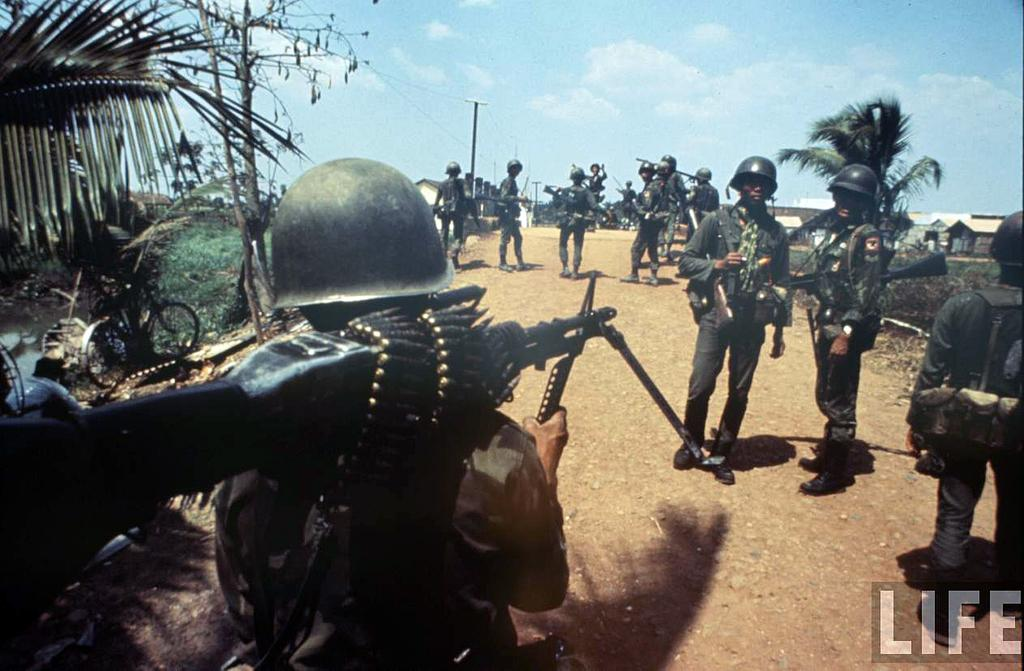Rifle: (0, 273, 702, 542), (775, 217, 953, 305), (693, 248, 748, 331), (632, 156, 713, 196), (539, 182, 606, 227), (623, 183, 666, 231), (430, 196, 478, 227), (476, 196, 537, 207)
